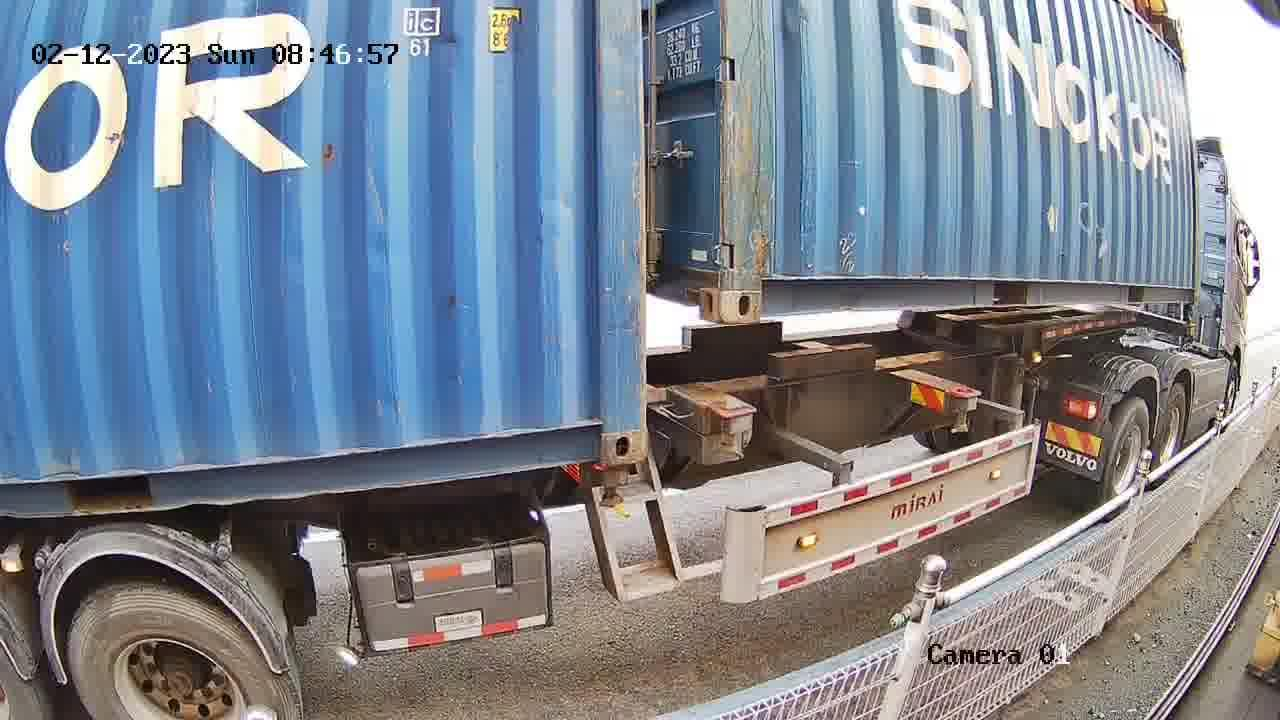Cone: (709, 401, 755, 459), (595, 464, 632, 510)
Hole_L: (720, 255, 802, 324)
Hole_R: (549, 382, 645, 466), (675, 249, 722, 326)
Tire: (66, 589, 286, 719), (1102, 397, 1151, 514), (1153, 386, 1186, 480)
